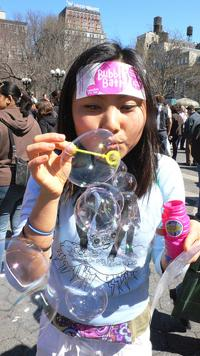person: (2, 48, 199, 354)
